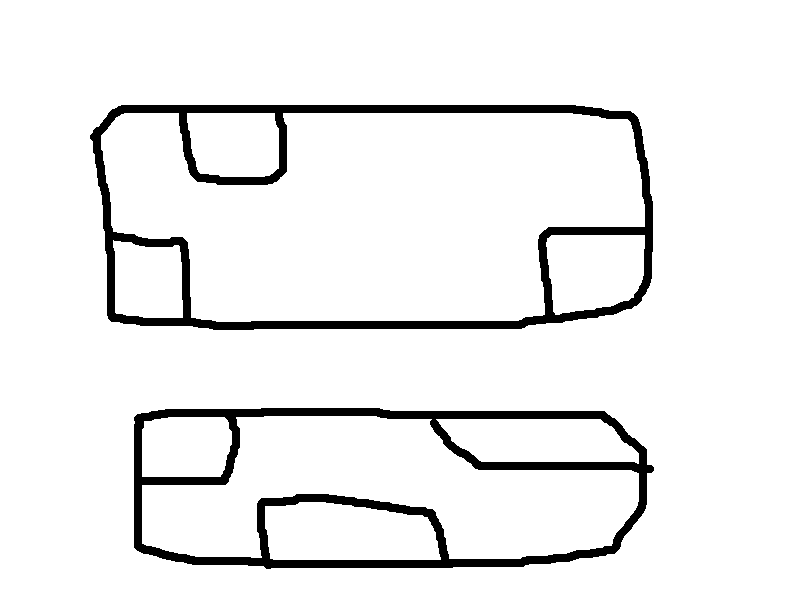rect: (428, 399, 654, 480), (249, 487, 456, 573), (534, 221, 660, 320), (99, 221, 197, 338), (172, 97, 290, 188), (125, 405, 247, 493)
